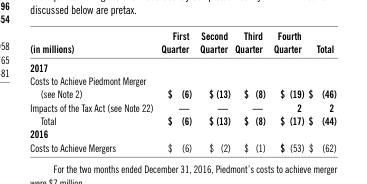table: (29, 29, 335, 153)
table column: (29, 29, 156, 153), (156, 29, 195, 153), (195, 29, 232, 153), (268, 29, 305, 153), (232, 29, 268, 153), (305, 29, 335, 153)
table column header: (29, 29, 335, 57)
table projected row header: (29, 57, 335, 73), (29, 126, 335, 140)
table row: (29, 29, 335, 57), (29, 73, 335, 99), (29, 57, 335, 73), (29, 99, 335, 113), (29, 126, 335, 140), (29, 113, 335, 126), (29, 140, 335, 153)
